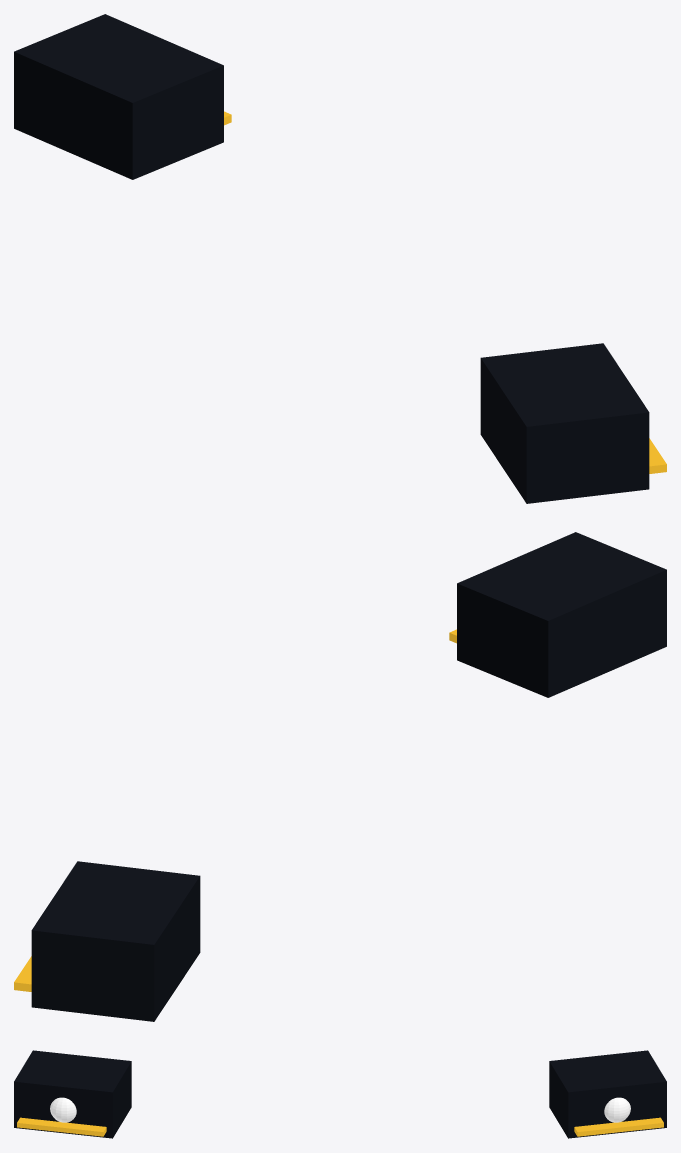
File: fog_lights.glb
3 views of the same model, one above another, from view 1: azimuth 30°, elevation 25°; view 2: azimuth 150°, elevation 25°; view 3: azimuth 270°, elevation 25° (orthographic). The views are drawn at different scales.
Visible parts, largest first — view 1: Fog_Lights_Assembly; view 2: Fog_Lights_Assembly; view 3: Fog_Lights_Assembly, object 4, object 5, object 2, object 3.
Part boxes in pixels (x1,y1,x2,y2): Fog_Lights_Assembly: (14, 14, 649, 503); Fog_Lights_Assembly: (31, 532, 666, 1021); Fog_Lights_Assembly: (14, 1050, 666, 1138); object 4: (574, 1117, 663, 1136); object 5: (17, 1117, 106, 1136); object 2: (604, 1097, 630, 1122); object 3: (50, 1097, 76, 1122).
Size of the model in its own units: 0.1728 by 0.08 by 1.02.
